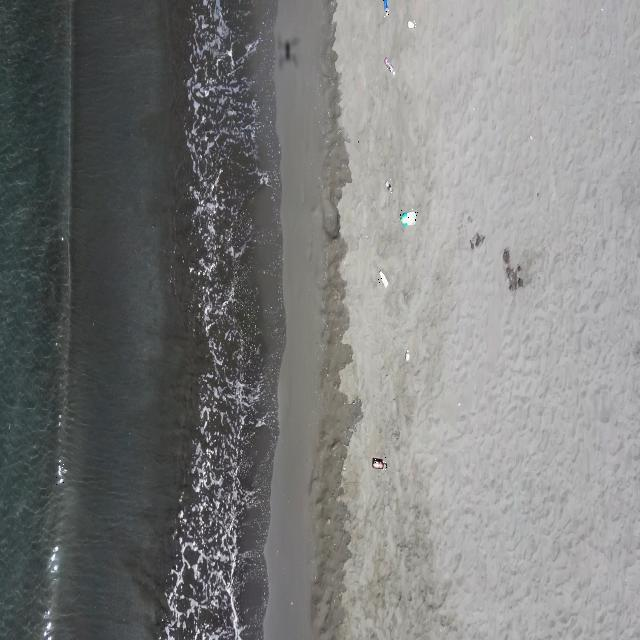plastic-bottle: (400, 209, 418, 228), (385, 56, 396, 76), (372, 458, 387, 472), (378, 269, 389, 288), (56, 461, 64, 485), (382, 0, 390, 19), (384, 179, 393, 193), (407, 18, 416, 32), (404, 346, 411, 363)
